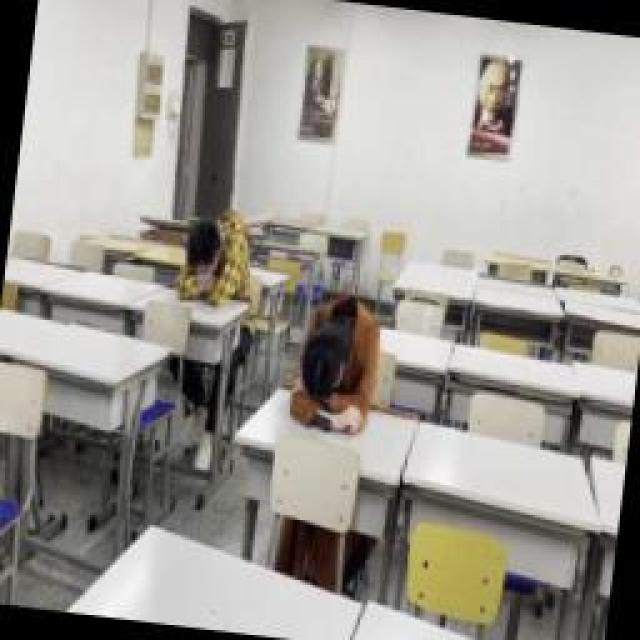sleep: (288, 290, 382, 432), (175, 208, 263, 320)
